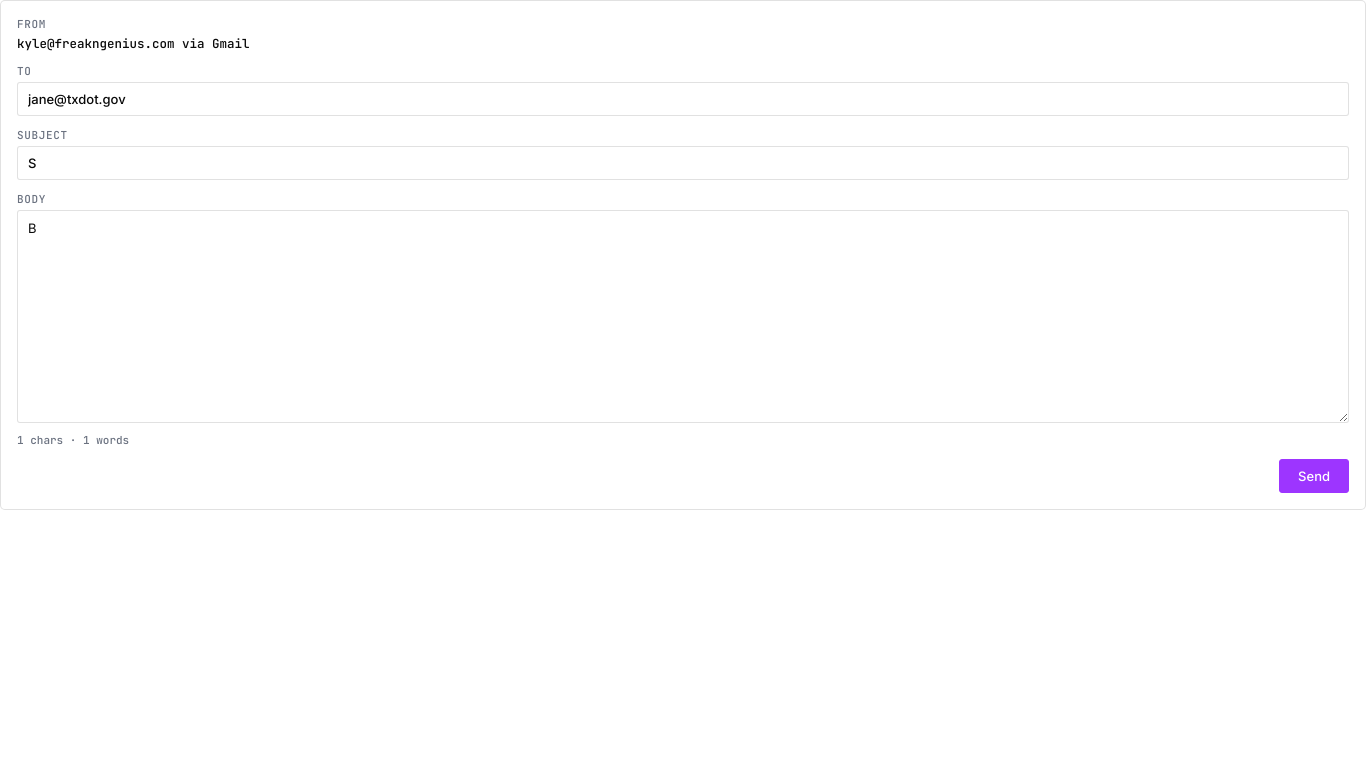
it: OutreachComposer — no_active_integration handling › does NOT surface the card when Send fails with a non-connection error
Click the button with test id "outreach-composer-send" at (1314, 476), box [1279,459,1349,493]
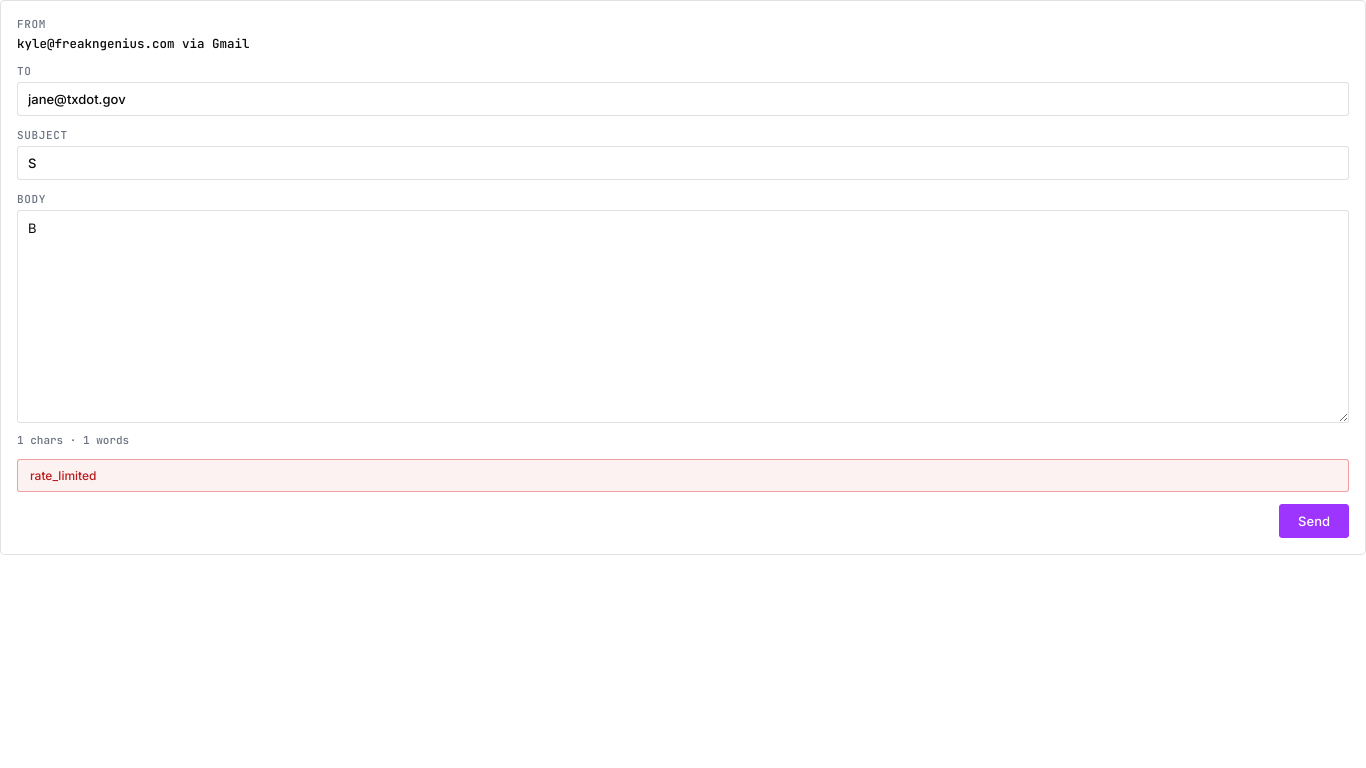
Expected: the message with test id "outreach-composer-feedback" reads "rate_limited", [30,468,96,483]
